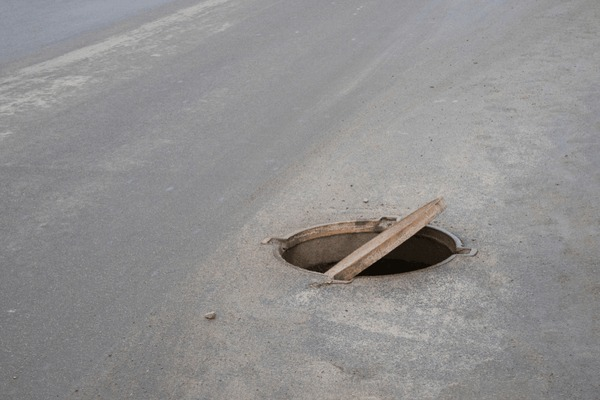open_manhole: (268, 205, 493, 284)
